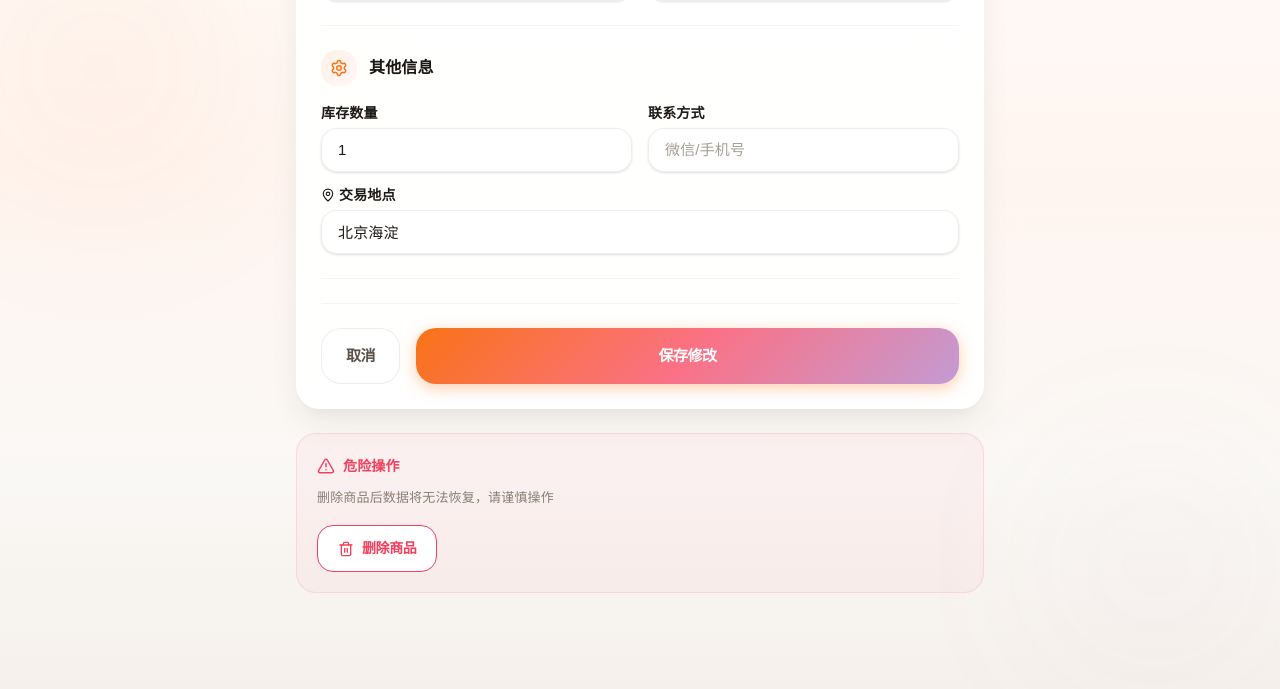
Test: EditProductPage › closes delete confirmation modal on cancel
(page scrolled)
Click the button "删除商品" at (377, 549), box top-left (317, 525), bottom-right (437, 572)
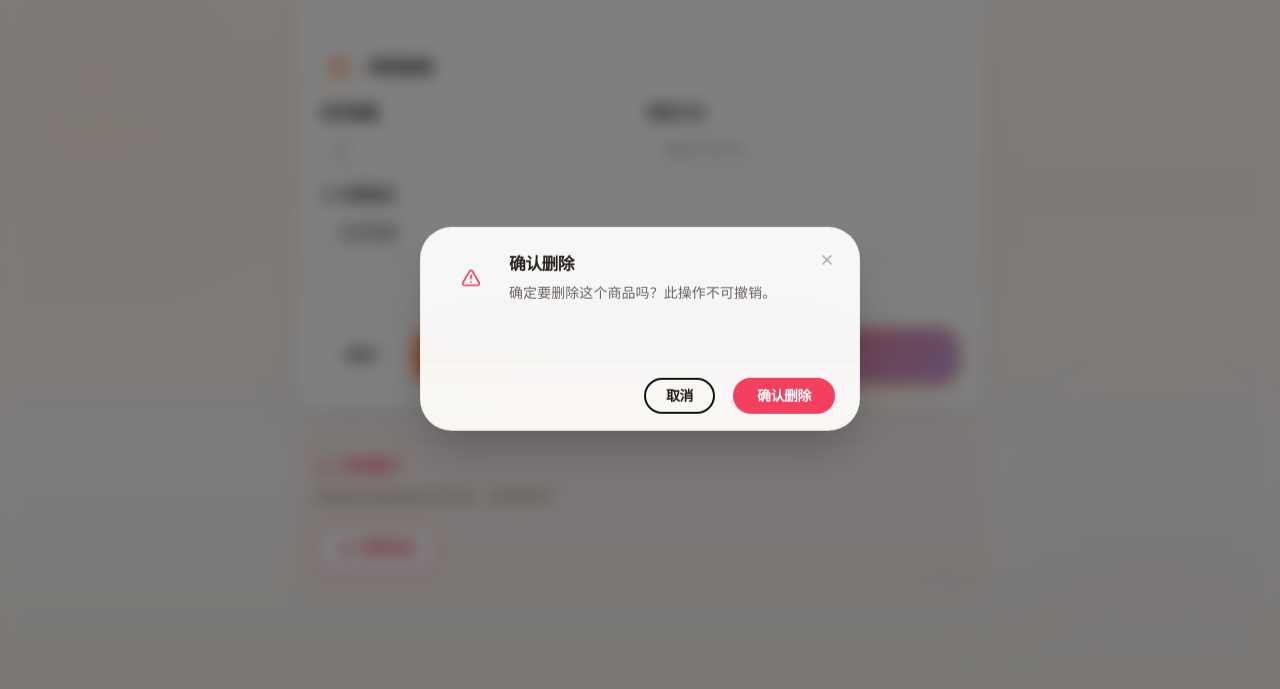
Check: the text "确定要删除这个商品吗？此操作不可撤销。" is shown, box top-left (509, 285), bottom-right (776, 301)
Click the button "取消" at (680, 396), box top-left (644, 378), bottom-right (715, 414)
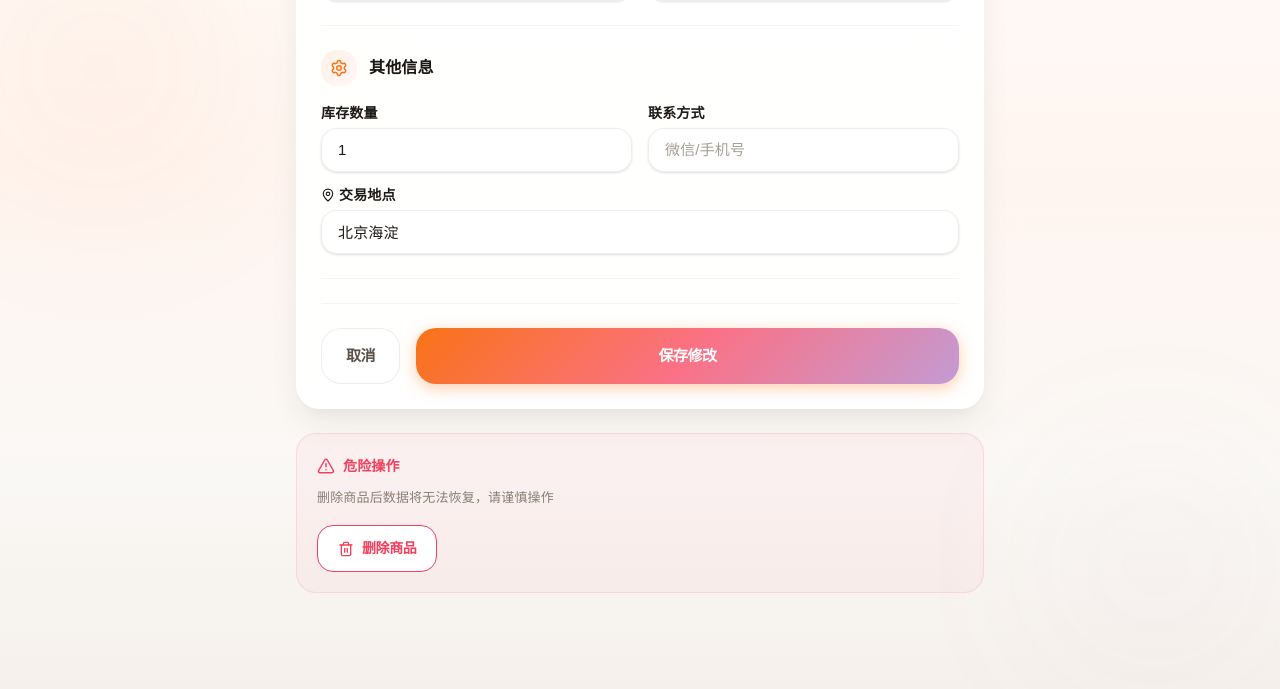
Check: the text "确定要删除这个商品吗？此操作不可撤销。" is gone
